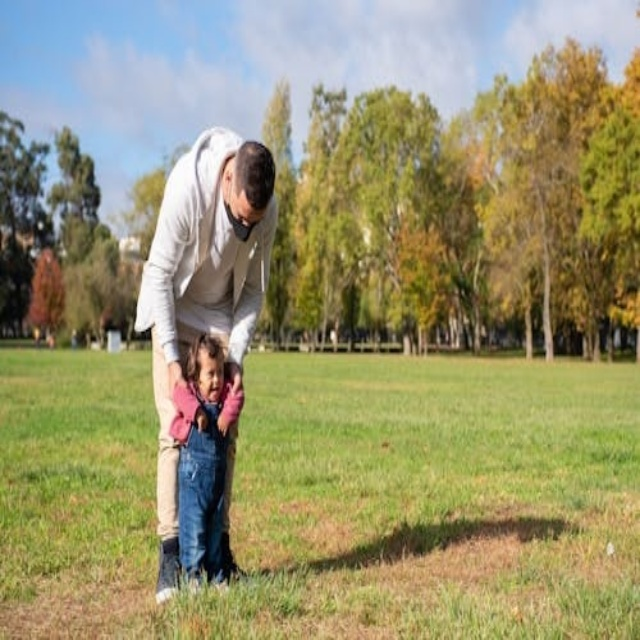Mascara: (219, 172, 266, 249)
